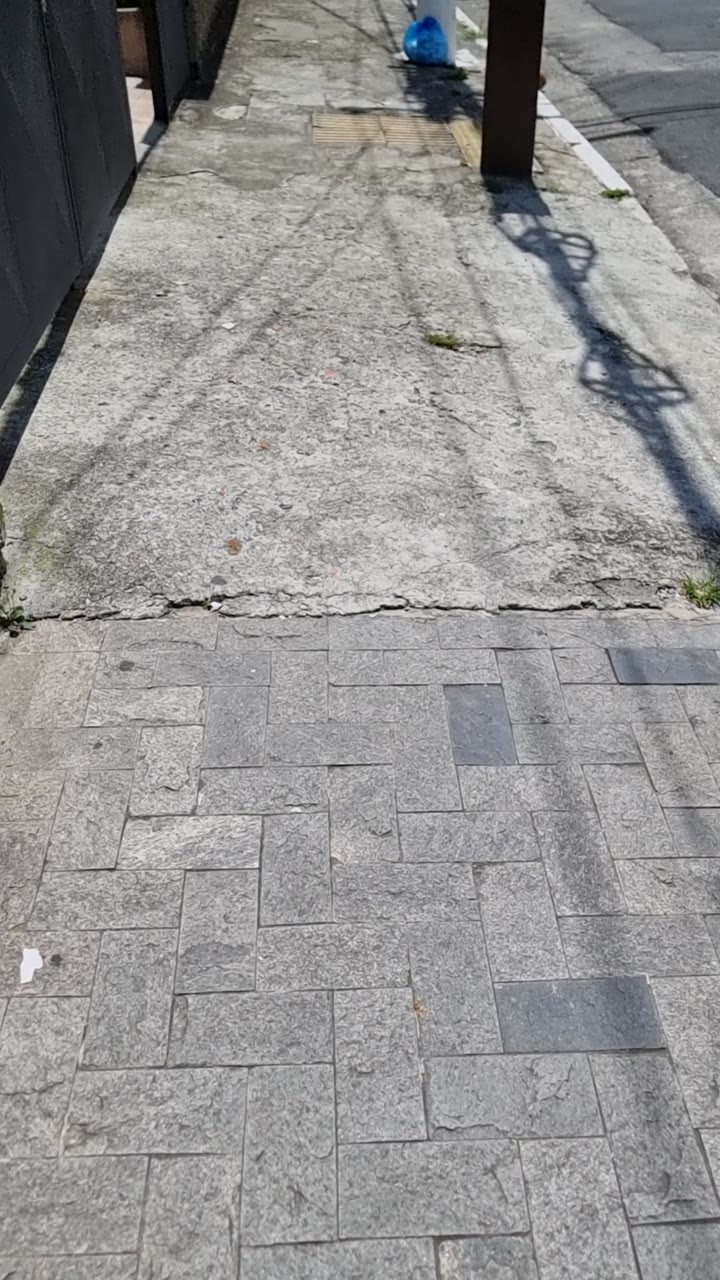desnivel: (0, 563, 720, 640)
obstaculo: (475, 0, 540, 218), (396, 0, 461, 77)
